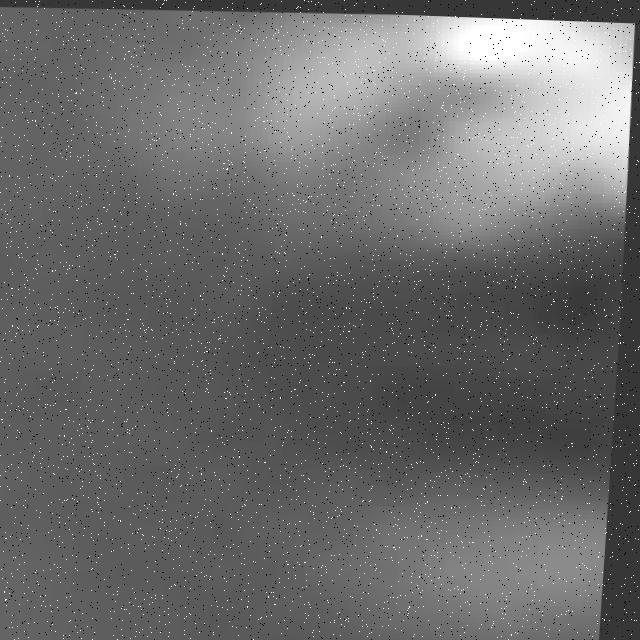person: (169, 6, 639, 241), (314, 487, 616, 640)
